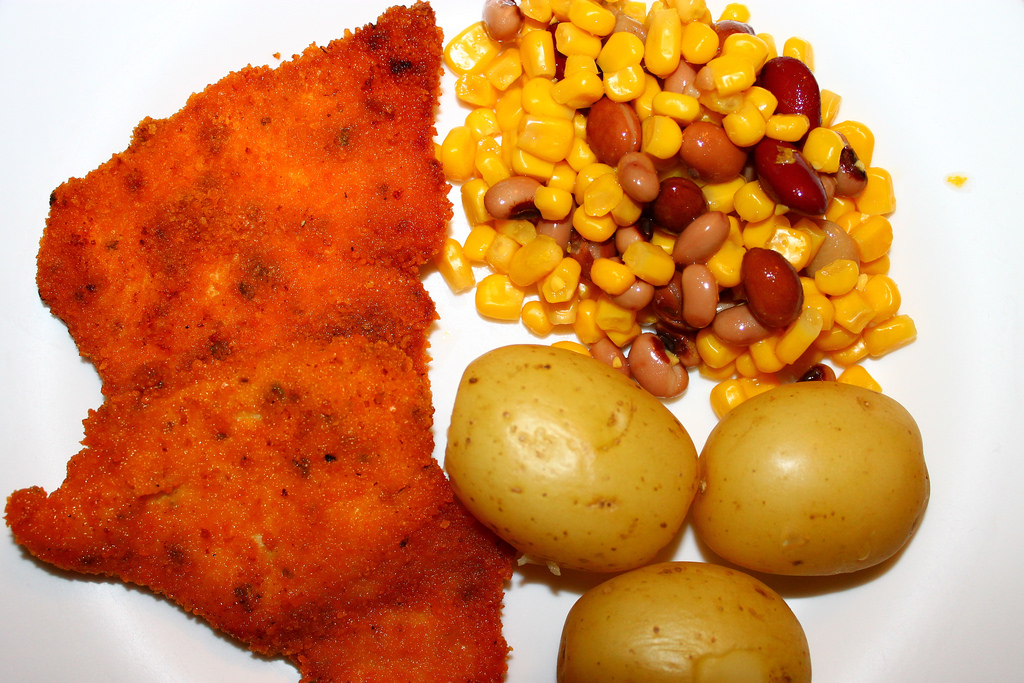boiled potatoes: (448, 347, 706, 576), (703, 384, 939, 589), (556, 562, 828, 682)
